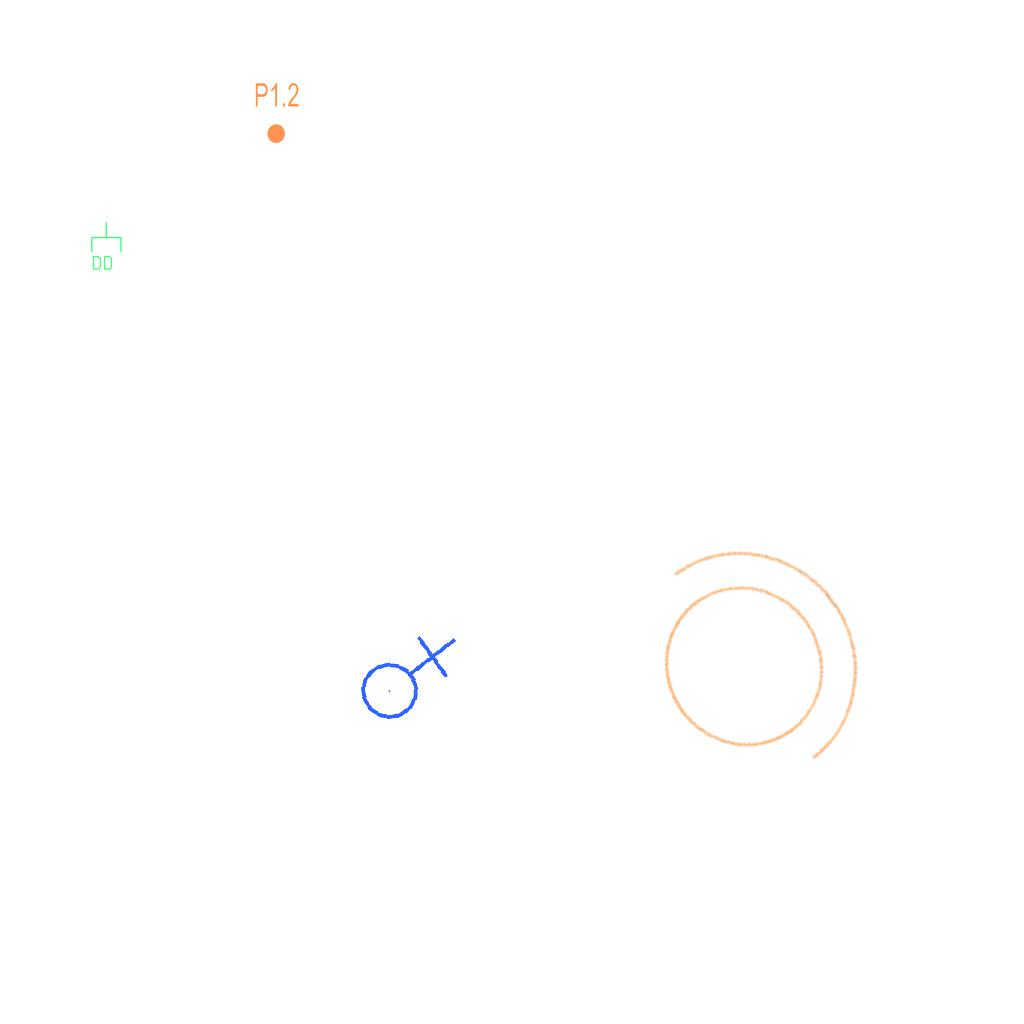Datenanschluss_zweifach: (89, 221, 123, 272)
Downlight_LED_Einbauleuchten_Flur: (254, 81, 300, 145)
Elektroanschluss_allgemein_230V_Geraeteanschlussdose_230V: (349, 623, 458, 727)
Scheinwerfer_fuer_Alarmbeleuchtung: (578, 482, 918, 829)
